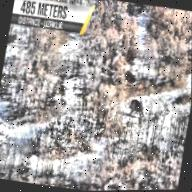boar: (122, 91, 150, 129)
